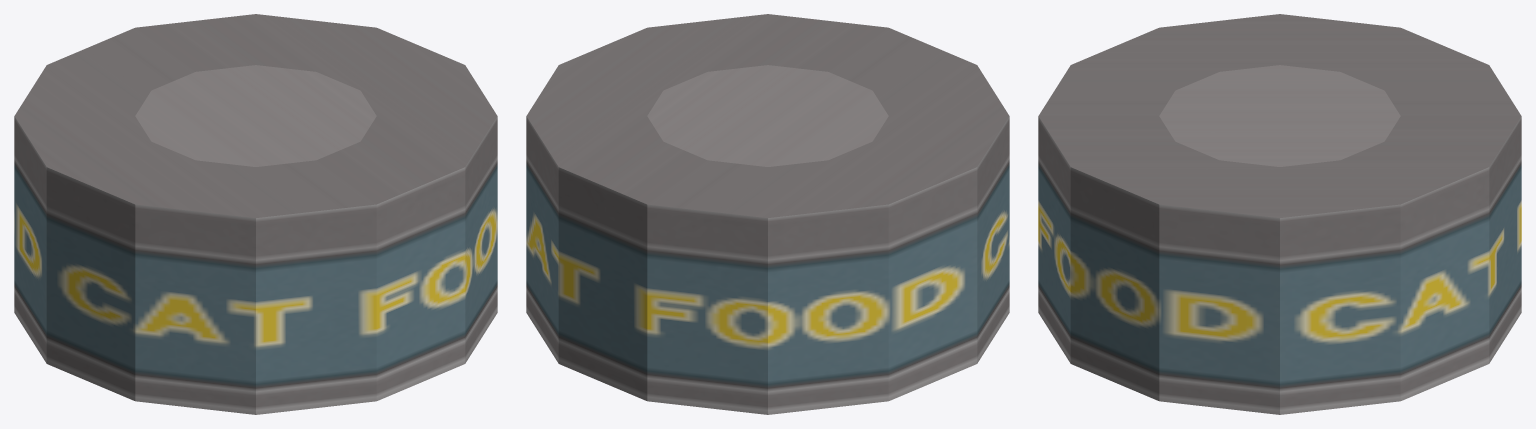
File: catfood.FBX
The picture shows the model from 3 angles, left to right: view 1: azimuth 30°, elevation 25°; view 2: azimuth 150°, elevation 25°; view 3: azimuth 270°, elevation 25°; orthographic projection.
Parts seen in each view (by area): view 1: pCylinder1; view 2: pCylinder1; view 3: pCylinder1.
Boxes of the visible parts, x1,y1,x2,y2 form: pCylinder1: (14,14,497,414); pCylinder1: (526,14,1009,414); pCylinder1: (1038,14,1521,414).
Bounding box in the file's own units: 2.21 × 0.9945 × 2.21.
